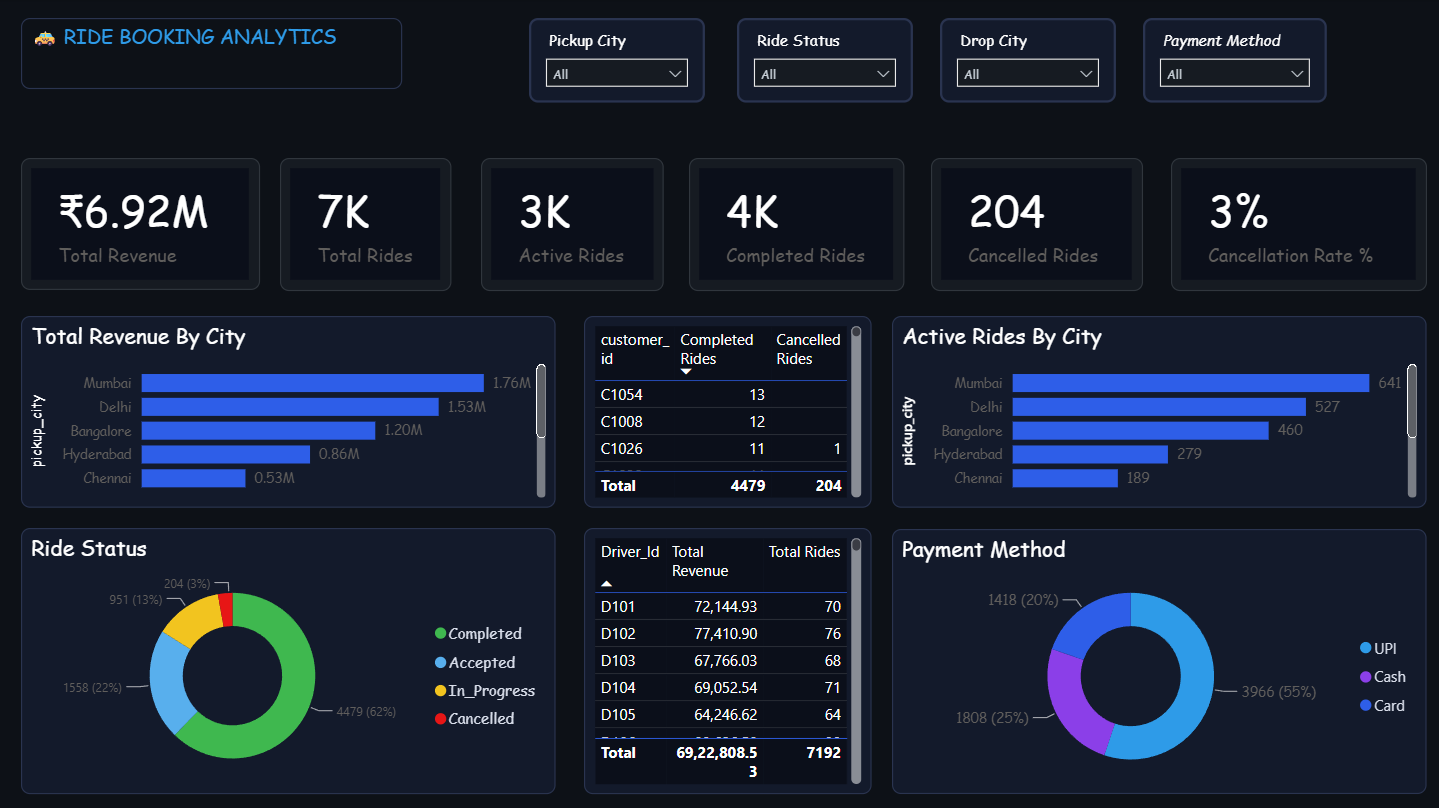

The page's visual inventory and layout, read from the dashboard file:
{"tool":"powerbi","page":{"name":"🚕 RIDE BOOKING ANALYTICS","canvas":[1280,720],"ordinal":0},"visuals":[{"type":"textbox","title":"🚕 RIDE BOOKING ANALYTICS","box":[19.5,16.8,337.8,63],"z":0},{"type":"slicer","fields":{"Values":["fact_ride_events.pickup_city"]},"box":[470,16.8,156.1,75.4],"z":1000},{"type":"slicer","fields":{"Values":["fact_ride_events.ride_status"]},"box":[654.4,16.8,156.1,75.4],"z":2000},{"type":"slicer","fields":{"Values":["fact_ride_events.drop_city"]},"box":[834.4,16.8,156.1,75.4],"z":3000},{"type":"slicer","fields":{"Values":["fact_ride_events.payment_method"]},"box":[1014.4,16.8,163.2,75.4],"z":4000},{"type":"cardVisual","fields":{"Data":["_Measures.Total Revenue"]},"box":[19.5,141,211.9,117],"z":5000},{"type":"cardVisual","fields":{"Data":["_Measures.Total Rides"]},"box":[249.2,141,151.6,117.9],"z":6000},{"type":"cardVisual","fields":{"Data":["_Measures.Completed Rides"]},"box":[611.8,141,190.6,117.9],"z":7000},{"type":"cardVisual","fields":{"Data":["_Measures.Cancellation Rate %"]},"box":[1039.2,141,227,117.9],"z":8000},{"type":"cardVisual","fields":{"Data":["_Measures.Cancelled Rides"]},"box":[826.4,141,188,117.9],"z":9000},{"type":"cardVisual","fields":{"Data":["_Measures.Active Rides"]},"box":[427.4,141,162.3,117.9],"z":10000},{"type":"donutChart","title":"Ride Status","fields":{"Y":["_Measures.Total Rides"],"Category":["fact_ride_events.clean_ride_status"]},"box":[19.5,469.1,474,235.9],"z":11000},{"type":"clusteredBarChart","title":"Total Revenue By City","fields":{"Category":["fact_ride_events.pickup_city"],"Y":["_Measures.Total Revenue"]},"box":[19.5,281.1,474.4,170.2],"z":12000},{"type":"donutChart","title":"Payment Method","fields":{"Y":["_Measures.Total Rides"],"Category":["fact_ride_events.payment_method"]},"box":[791.8,470,474.4,235],"z":13000},{"type":"tableEx","fields":{"Values":["fact_ride_events.driver_id","_Measures.Total Revenue","_Measures.Total Rides"]},"box":[518.7,469.1,255.4,235.9],"z":14000},{"type":"clusteredBarChart","title":"Active Rides By City","fields":{"Category":["fact_ride_events.pickup_city"],"Y":["_Measures.Active Rides"]},"box":[791.8,281.1,474.4,170.2],"z":15000},{"type":"tableEx","fields":{"Values":["fact_ride_events.customer_id","_Measures.Completed Rides","_Measures.Cancelled Rides"]},"box":[518.7,281.1,255.4,170.2],"z":16000}]}

Visuals, with their boxes in screenshot pixels (x1, y1, x2, y2), scaled from the page's 1280x720 canvas onto the 1439x808 screenshot:
"🚕 RIDE BOOKING ANALYTICS" textbox: (x1=22, y1=19, x2=402, y2=90)
slicer - fact_ride_events.pickup_city: (x1=528, y1=19, x2=704, y2=103)
slicer - fact_ride_events.ride_status: (x1=736, y1=19, x2=911, y2=103)
slicer - fact_ride_events.drop_city: (x1=938, y1=19, x2=1114, y2=103)
slicer - fact_ride_events.payment_method: (x1=1140, y1=19, x2=1324, y2=103)
cardVisual - _Measures.Total Revenue: (x1=22, y1=158, x2=260, y2=290)
cardVisual - _Measures.Total Rides: (x1=280, y1=158, x2=451, y2=291)
cardVisual - _Measures.Completed Rides: (x1=688, y1=158, x2=902, y2=291)
cardVisual - _Measures.Cancellation Rate %: (x1=1168, y1=158, x2=1423, y2=291)
cardVisual - _Measures.Cancelled Rides: (x1=929, y1=158, x2=1140, y2=291)
cardVisual - _Measures.Active Rides: (x1=480, y1=158, x2=663, y2=291)
"Ride Status" donutChart: (x1=22, y1=526, x2=555, y2=791)
"Total Revenue By City" clusteredBarChart: (x1=22, y1=315, x2=555, y2=506)
"Payment Method" donutChart: (x1=890, y1=527, x2=1423, y2=791)
tableEx - fact_ride_events.driver_id x _Measures.Total Revenue: (x1=583, y1=526, x2=870, y2=791)
"Active Rides By City" clusteredBarChart: (x1=890, y1=315, x2=1423, y2=506)
tableEx - fact_ride_events.customer_id x _Measures.Completed Rides: (x1=583, y1=315, x2=870, y2=506)
